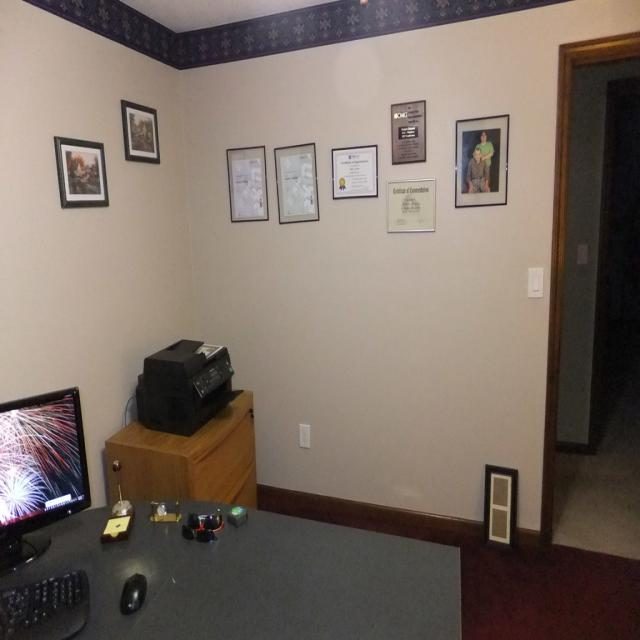desk: (0, 475, 462, 632)
keyboard: (1, 569, 90, 640)
mouse: (120, 574, 148, 614)
tv: (0, 386, 92, 549)
